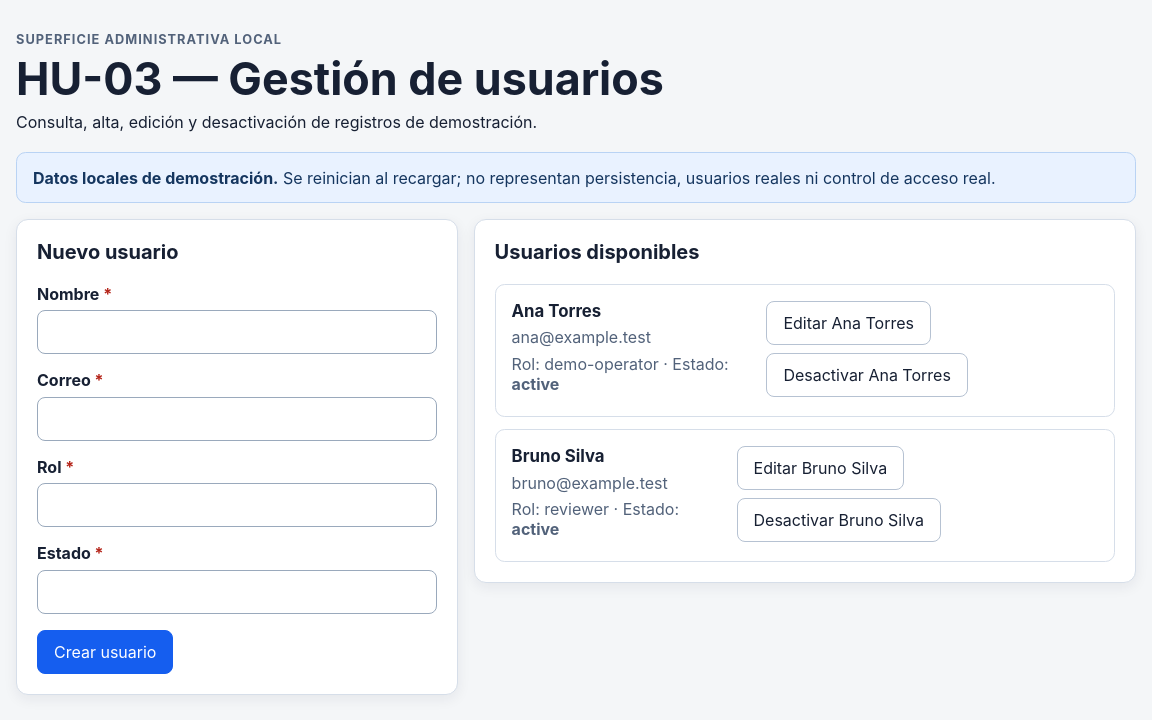
UserManagementPage › validates missing fields and creates a valid user with confirmation
Expected: the heading "Ana Torres" is shown, [512,301,601,321]
Click the button "Crear usuario". click: (105, 652)
box: [37,630,173,674]
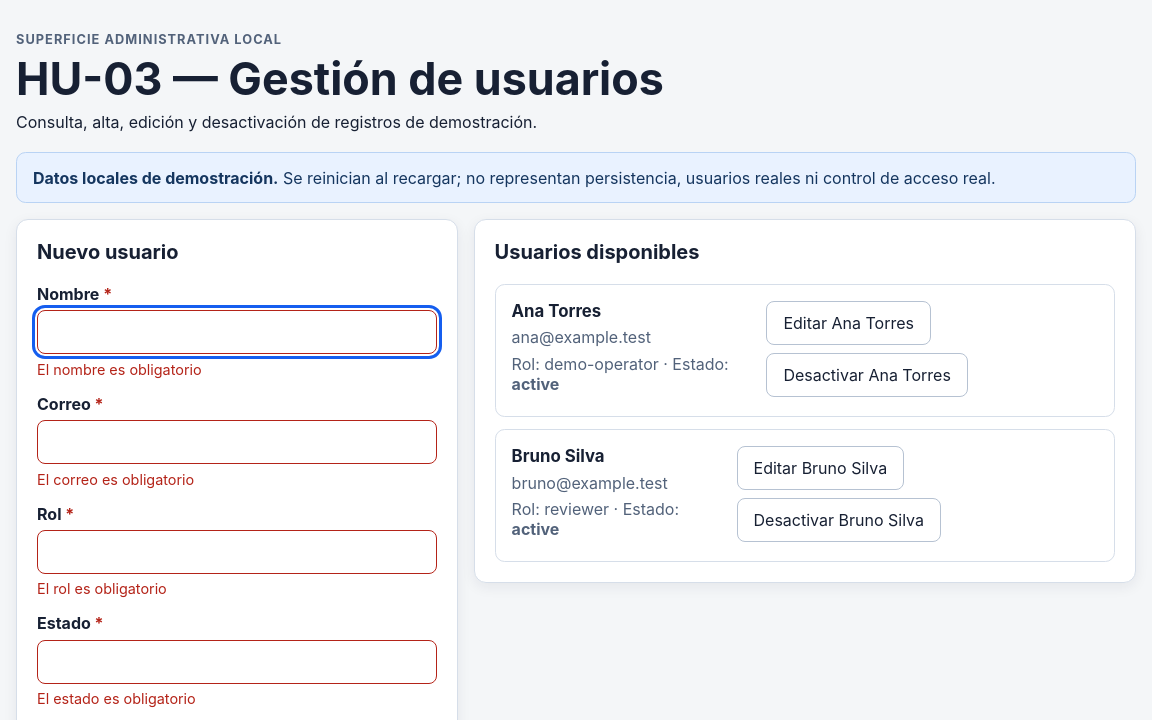
Now the number of messages is 4, box [37,361,202,378]; [37,471,194,488]; [37,580,167,597]; [37,690,196,707]
Type "Nuevo" into the field labelled "Nombre *". click: (237, 332)
box: [37,310,437,354]
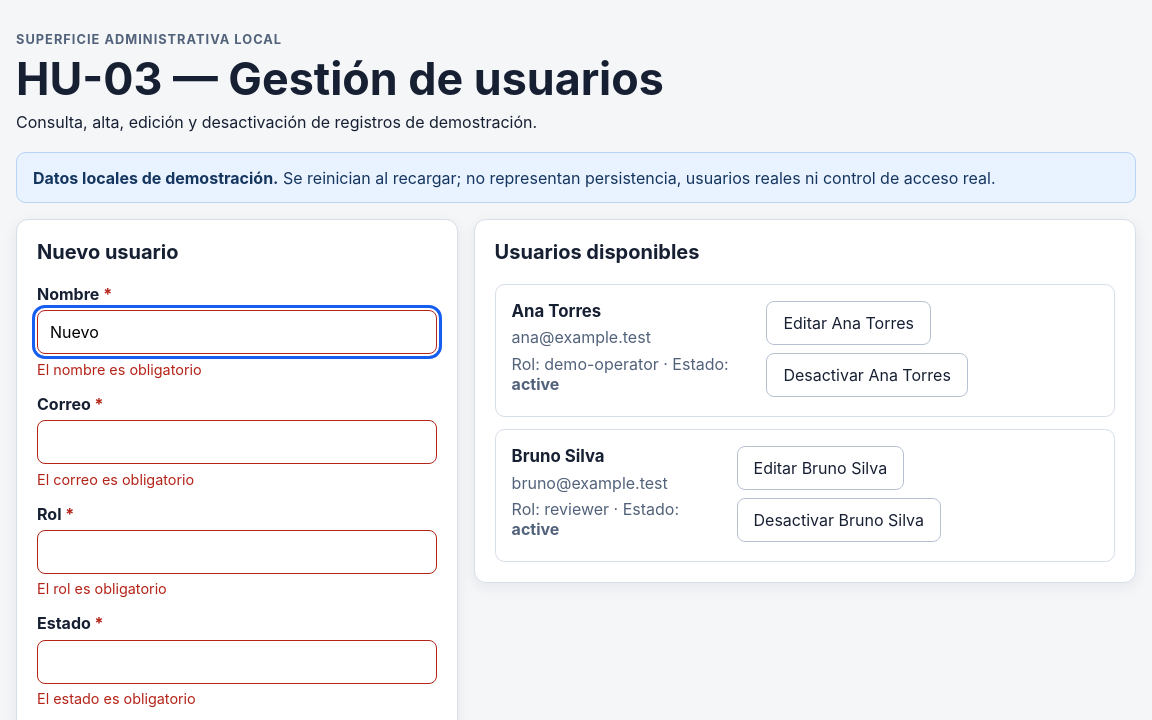
Type "nuevo@test" into the field labelled "Correo *". click: (237, 442)
box: [37,420,437,464]
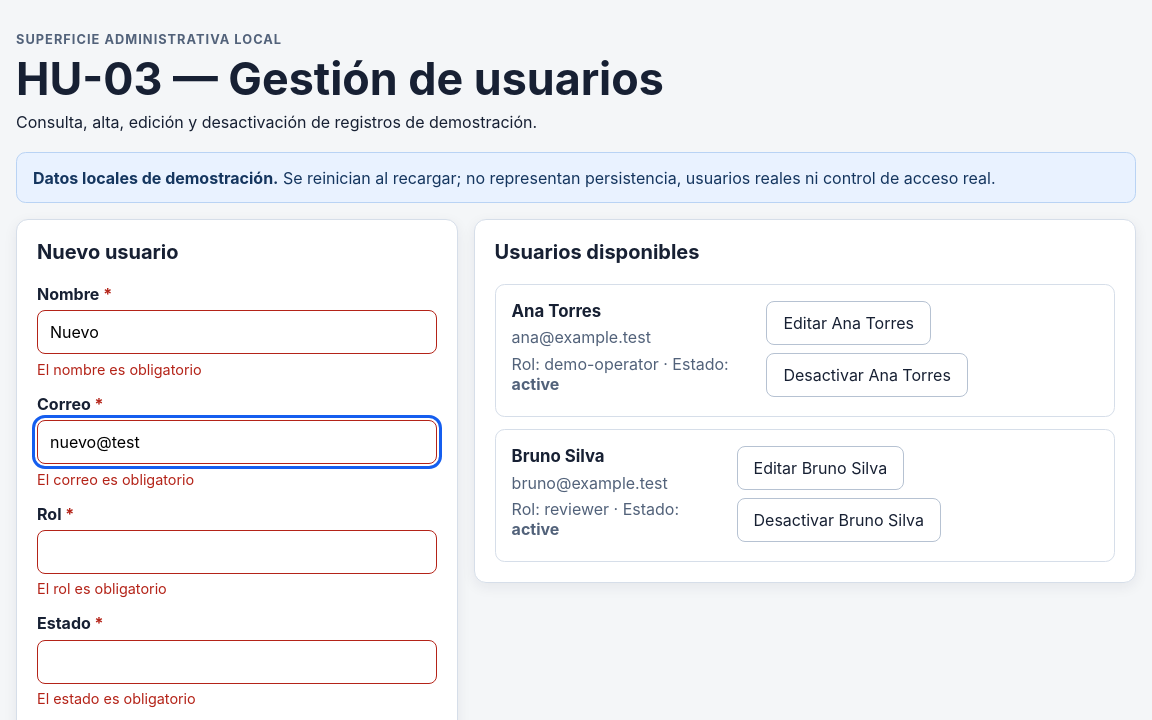
Type "visitor" into the field labelled "Rol *". click: (237, 552)
box: [37,530,437,574]
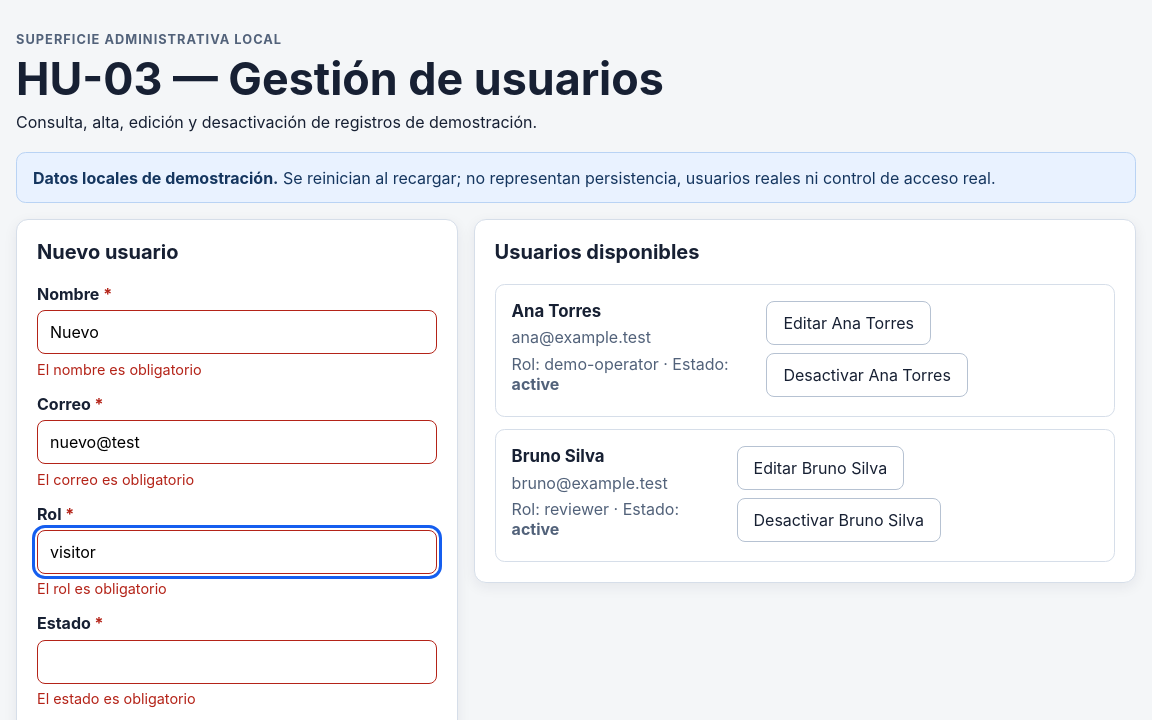
Type "pending" into the field labelled "Estado *". click: (237, 662)
box: [37,640,437,684]
(page scrolled)
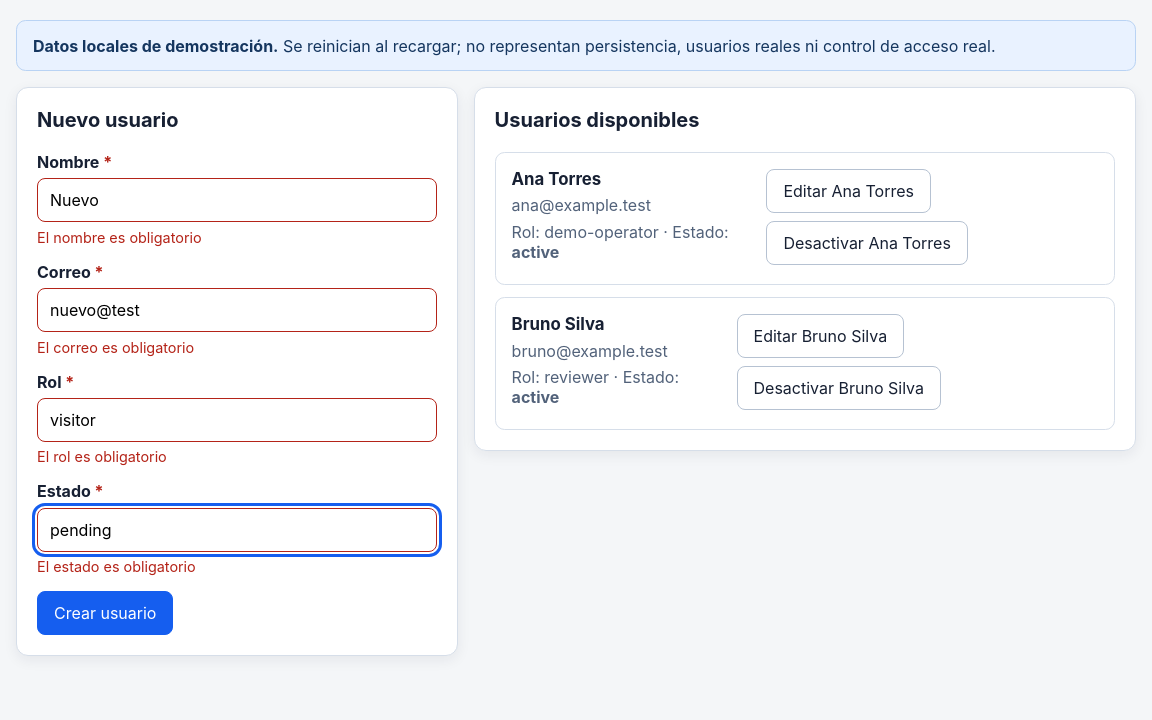
Click the button "Crear usuario". click: (105, 613)
box: [37,591,173,635]
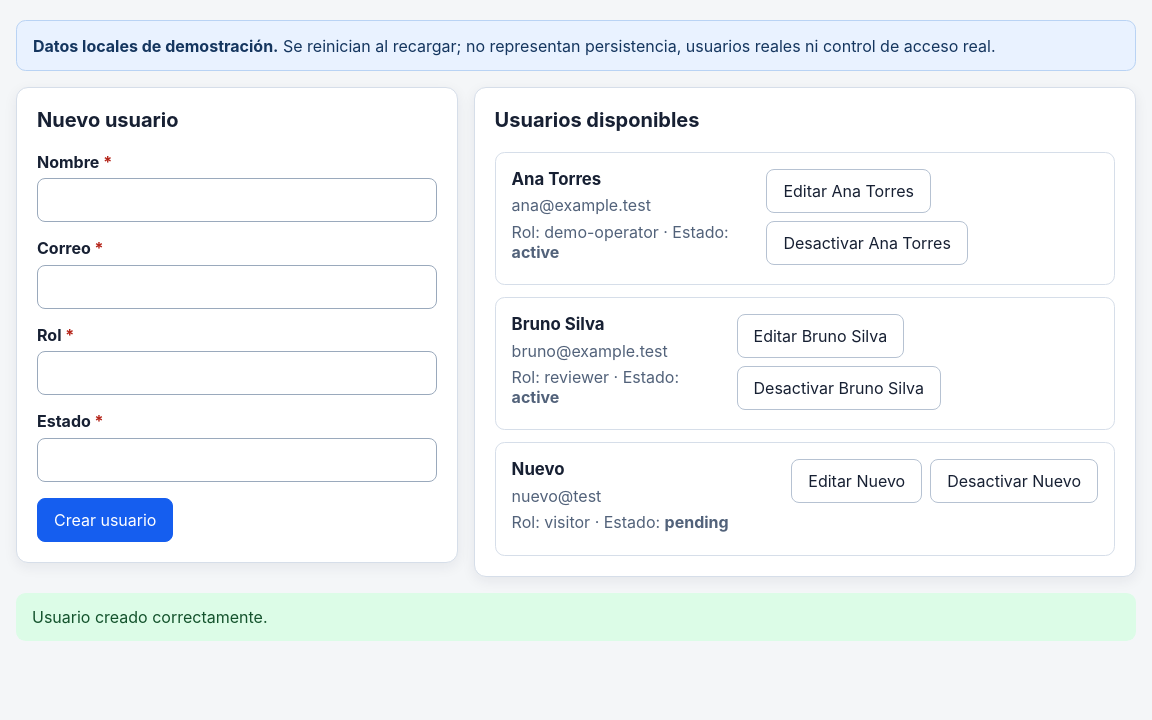
Now the message reads "Usuario creado correctamente.", box [32,607,268,627]
Now the heading "Nuevo" is shown, box [512,459,565,479]
